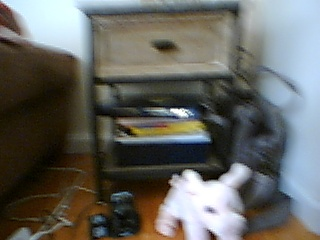piggy: (153, 162, 256, 240)
